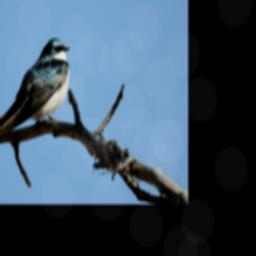Swallow: (0, 36, 71, 138)
